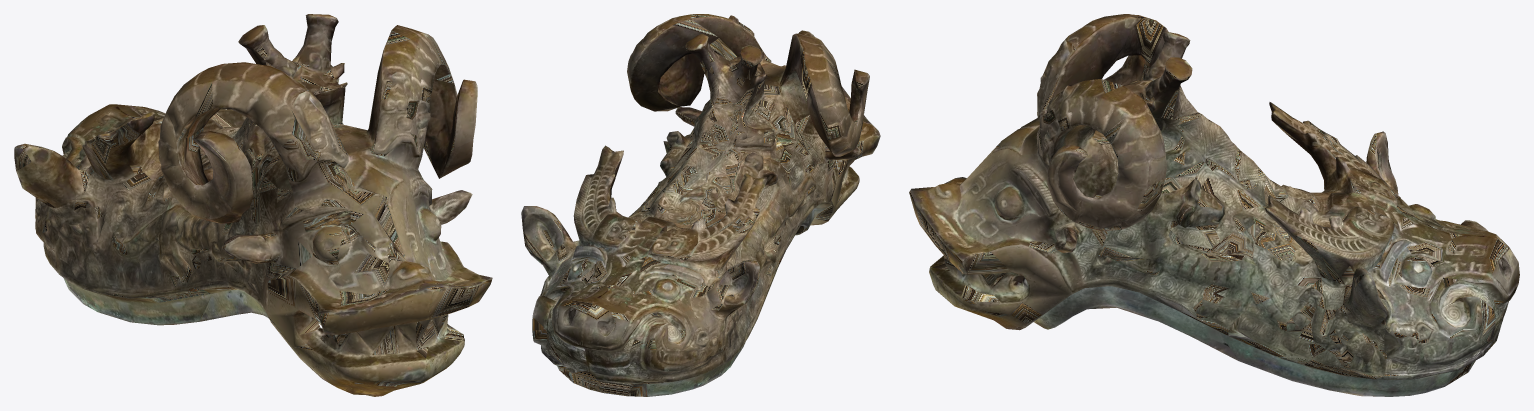
File: bronze_gong.glb
The picture shows the model from 3 angles, left to right: view 1: azimuth 30°, elevation 25°; view 2: azimuth 150°, elevation 25°; view 3: azimuth 270°, elevation 25°; orthographic projection. The views are drawn at different scales.
Visible parts, largest first — view 1: part01-std.glb; view 2: part01-std.glb; view 3: part01-std.glb.
Boxes of the visible parts, x1,y1,x2,y2 form: part01-std.glb: (14,14,492,396); part01-std.glb: (521,14,880,396); part01-std.glb: (909,14,1519,396).
Bounding box in the file's own units: 0.143 × 0.1465 × 0.2606.
Materials: 1 (1 with a texture image).
